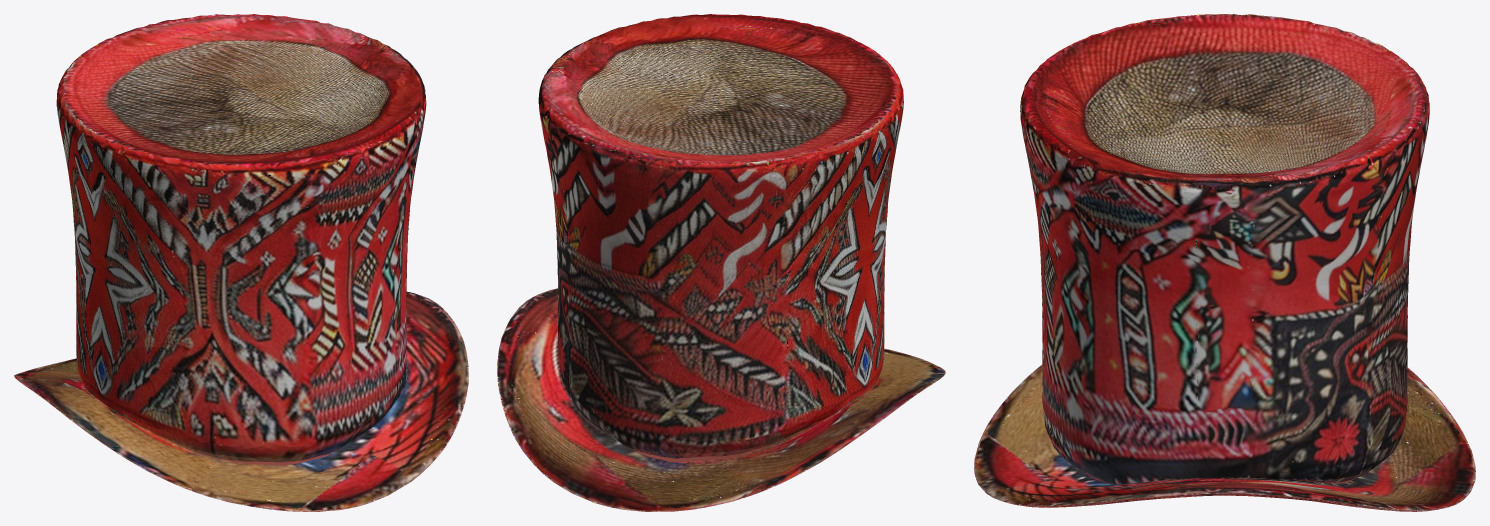
The picture shows the model from 3 angles, left to right: view 1: azimuth 30°, elevation 25°; view 2: azimuth 150°, elevation 25°; view 3: azimuth 270°, elevation 25°; orthographic projection. The views are drawn at different scales.
Visible parts, largest first — view 1: mesh; view 2: mesh; view 3: mesh.
Part boxes in pixels (<box>): mesh: <box>14,14,468,511</box>; mesh: <box>497,14,945,511</box>; mesh: <box>974,14,1475,511</box>.
Bounding box in the file's own units: 0.9295 × 0.7745 × 0.9289.
Materials: 1 (1 with a texture image).
